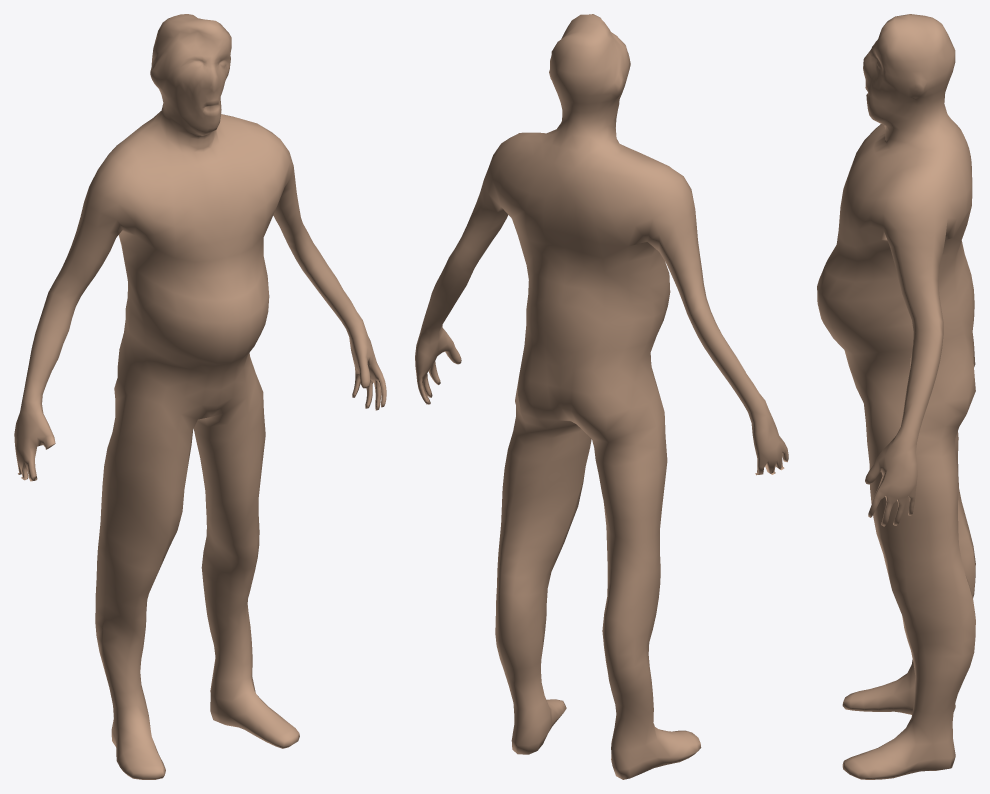
Rendered from fatzombie.obj.
3 views of the same model, side by side, from view 1: azimuth 30°, elevation 25°; view 2: azimuth 150°, elevation 25°; view 3: azimuth 270°, elevation 25° (orthographic).
Parts seen in each view (by area): view 1: humanBody; view 2: humanBody; view 3: humanBody.
Part boxes in pixels (bbox=[...]): humanBody: bbox=[14, 14, 386, 779]; humanBody: bbox=[415, 14, 788, 779]; humanBody: bbox=[817, 14, 975, 779].
Size of the model in its own units: 36.78 by 71.36 by 14.11.
